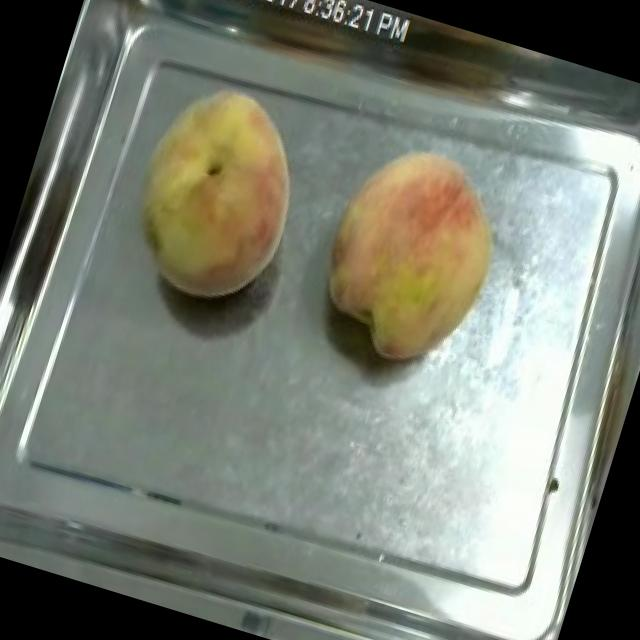Fruit: (292, 117, 533, 390), (104, 59, 330, 324)
